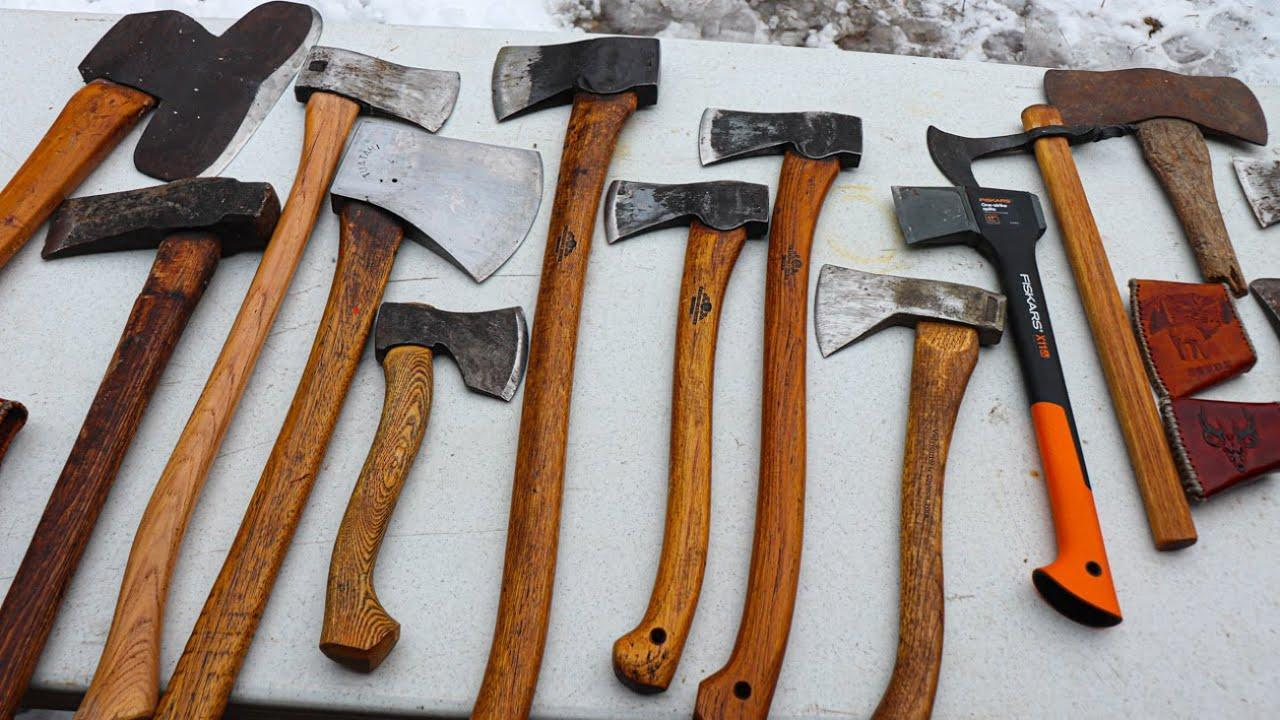machado: (197, 118, 542, 633), (472, 37, 659, 719), (927, 103, 1197, 550), (694, 109, 862, 719), (894, 187, 1119, 625), (815, 265, 1004, 719), (607, 181, 767, 693), (320, 303, 527, 671), (239, 46, 459, 326), (1044, 68, 1266, 292)
